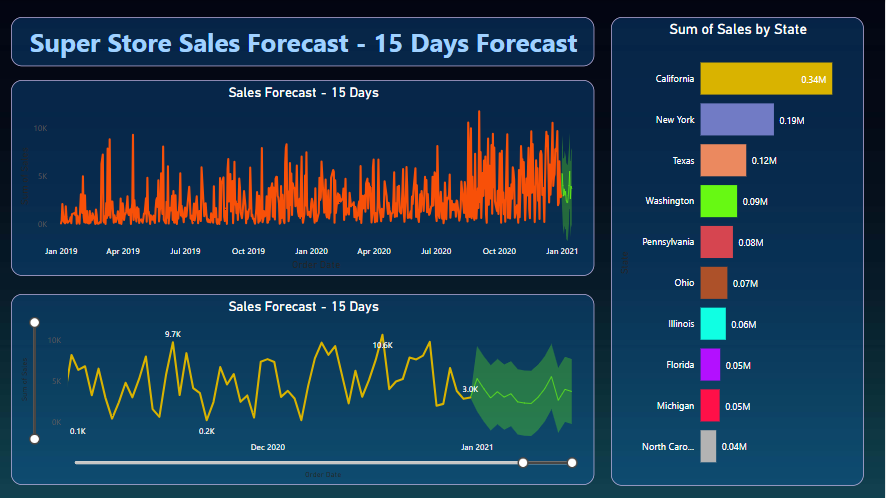

Layout of this report page (visuals, bound fields, positions):
{"tool":"powerbi","page":{"name":"Sales Forecast","canvas":[1280,720],"ordinal":1},"visuals":[{"type":"lineChart","title":"Sales Forecast - 15 Days","fields":{"Y":["Sum(SuperStore_Sales_Dataset.Sales)"],"Category":["SuperStore_Sales_Dataset.Order Date"]},"box":[21.3,114.8,840.5,282],"z":0},{"type":"lineChart","title":"Sales Forecast - 15 Days","fields":{"Y":["Sum(SuperStore_Sales_Dataset.Sales)"],"Category":["SuperStore_Sales_Dataset.Order Date"]},"box":[21.3,423.8,840.5,275],"z":1000},{"type":"barChart","fields":{"Y":["Sum(SuperStore_Sales_Dataset.Sales)"],"Category":["SuperStore_Sales_Dataset.State"]},"box":[885.8,24.1,364.3,674.6],"z":2000},{"type":"textbox","box":[21.3,24.1,840.5,70.9],"z":3000}]}

Visuals, with their boxes in screenshot pixels (x1, y1, x2, y2), scaled from the page's 1280x720 canvas onto the 886x498 screenshot:
"Sales Forecast - 15 Days" lineChart: {"x1": 15, "y1": 79, "x2": 597, "y2": 274}
"Sales Forecast - 15 Days" lineChart: {"x1": 15, "y1": 293, "x2": 597, "y2": 483}
barChart - Sum(SuperStore_Sales_Dataset.Sales) x SuperStore_Sales_Dataset.State: {"x1": 613, "y1": 17, "x2": 865, "y2": 483}
textbox: {"x1": 15, "y1": 17, "x2": 597, "y2": 66}
